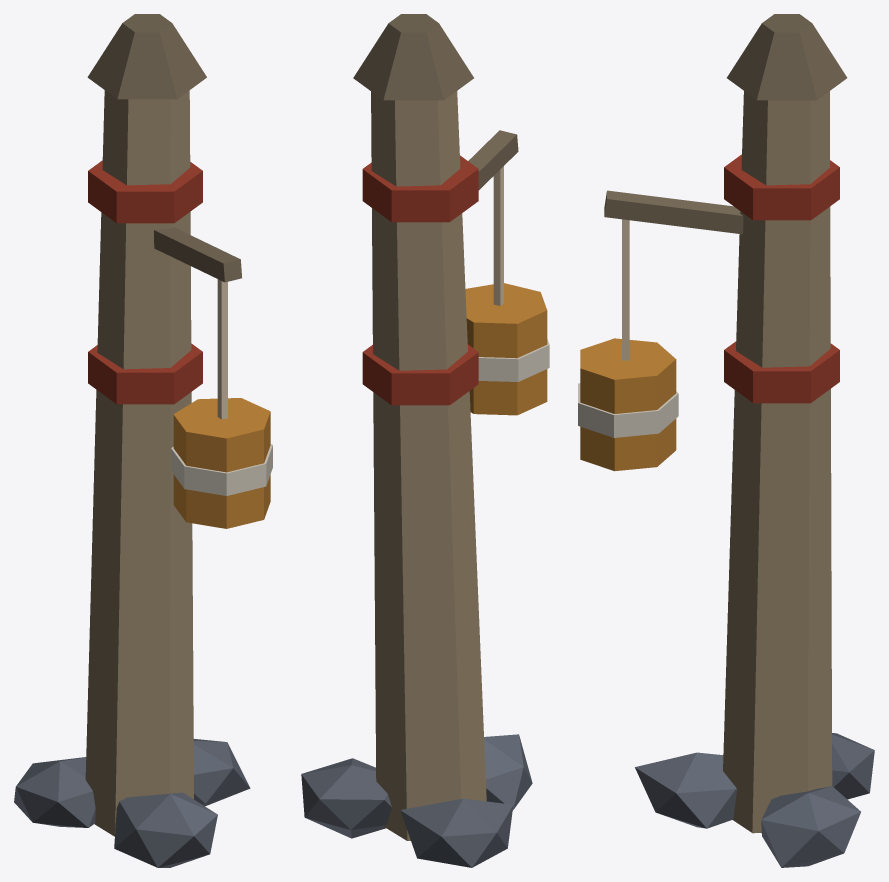
Rendered from gate_post.glb.
3 renders of one model, left to right at view 1: azimuth 30°, elevation 25°; view 2: azimuth 150°, elevation 25°; view 3: azimuth 270°, elevation 25°, orthographic.
Visible parts, largest first — view 1: driftwood_d20, ember_d20, coal_d15, driftwood_d45, slate_d9, slate_d17, slate_d13, bone_d10, driftwood_d40, driftwood_l20; view 2: driftwood_d20, coal_d15, ember_d20, driftwood_d45, slate_d17, slate_d13, slate_d9, bone_d10, driftwood_d40, driftwood_l20; view 3: driftwood_d20, ember_d20, coal_d15, driftwood_d45, slate_d13, slate_d9, driftwood_d40, bone_d10, slate_d17, driftwood_l20.
Boxes of the visible parts, <box> form: driftwood_d20: <box>85,90,193,836</box>; ember_d20: <box>173,398,270,528</box>; coal_d15: <box>88,160,202,404</box>; driftwood_d45: <box>87,14,206,99</box>; slate_d9: <box>114,792,217,867</box>; slate_d17: <box>14,757,95,827</box>; slate_d13: <box>193,739,250,806</box>; bone_d10: <box>171,444,272,495</box>; driftwood_d40: <box>154,227,241,282</box>; driftwood_l20: <box>217,279,227,419</box>; driftwood_d20: <box>371,91,486,840</box>; coal_d15: <box>362,155,478,405</box>; ember_d20: <box>465,283,547,415</box>; driftwood_d45: <box>353,14,473,100</box>; slate_d17: <box>400,798,513,867</box>; slate_d13: <box>301,758,391,838</box>; slate_d9: <box>484,734,532,810</box>; bone_d10: <box>478,339,549,381</box>; driftwood_d40: <box>468,130,518,190</box>; driftwood_l20: <box>493,166,503,305</box>; driftwood_d20: <box>723,91,832,833</box>; ember_d20: <box>580,338,676,471</box>; coal_d15: <box>724,154,839,403</box>; driftwood_d45: <box>727,14,847,100</box>; slate_d13: <box>761,786,860,867</box>; slate_d9: <box>635,752,736,828</box>; driftwood_d40: <box>604,190,743,234</box>; bone_d10: <box>578,383,678,437</box>; slate_d17: <box>832,733,874,799</box>; driftwood_l20: <box>622,219,629,360</box>.
Bounding box in the file's own units: 0.4794 × 1.79 × 0.5888.
